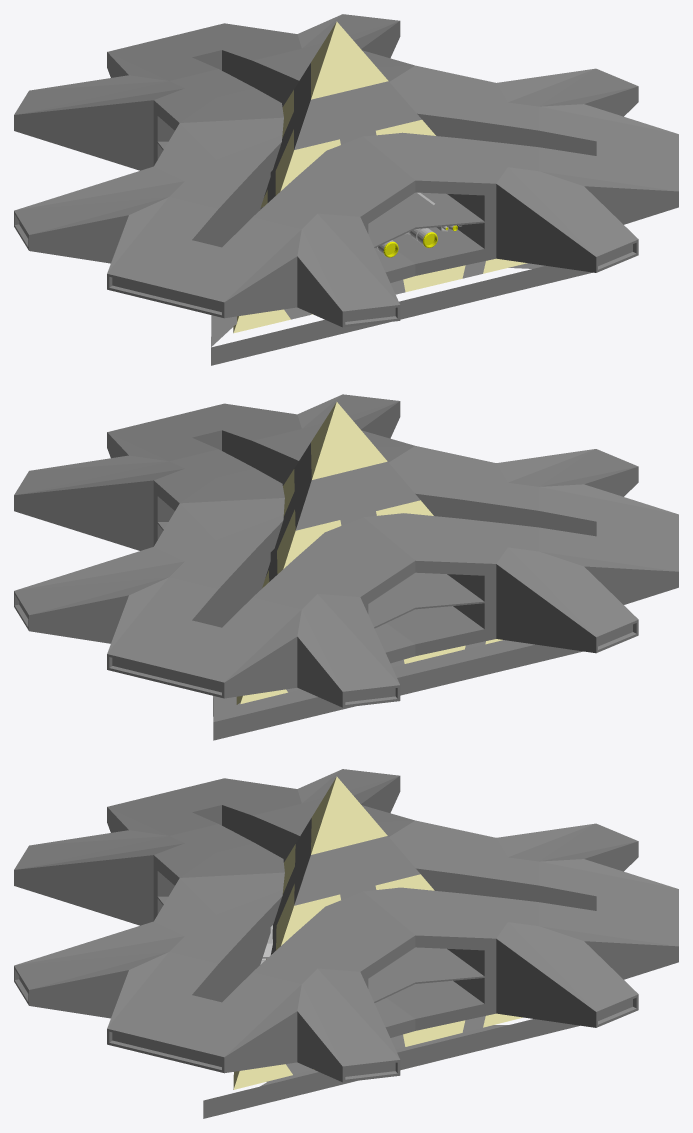
Rendered from hatak.dae.
The picture shows the model from 3 angles, top to bottom: view 1: azimuth 30°, elevation 25°; view 2: azimuth 150°, elevation 25°; view 3: azimuth 270°, elevation 25°; orthographic projection.
Visible parts, largest first — view 1: Hatak, Daedalus; view 2: Hatak; view 3: Hatak.
Part boxes in pixels (<box>): Hatak: <box>14,14,678,365</box>; Daedalus: <box>260,192,462,257</box>; Hatak: <box>14,394,678,740</box>; Hatak: <box>14,769,678,1118</box>.
Bounding box in the file's own units: 787 × 744 × 307.
